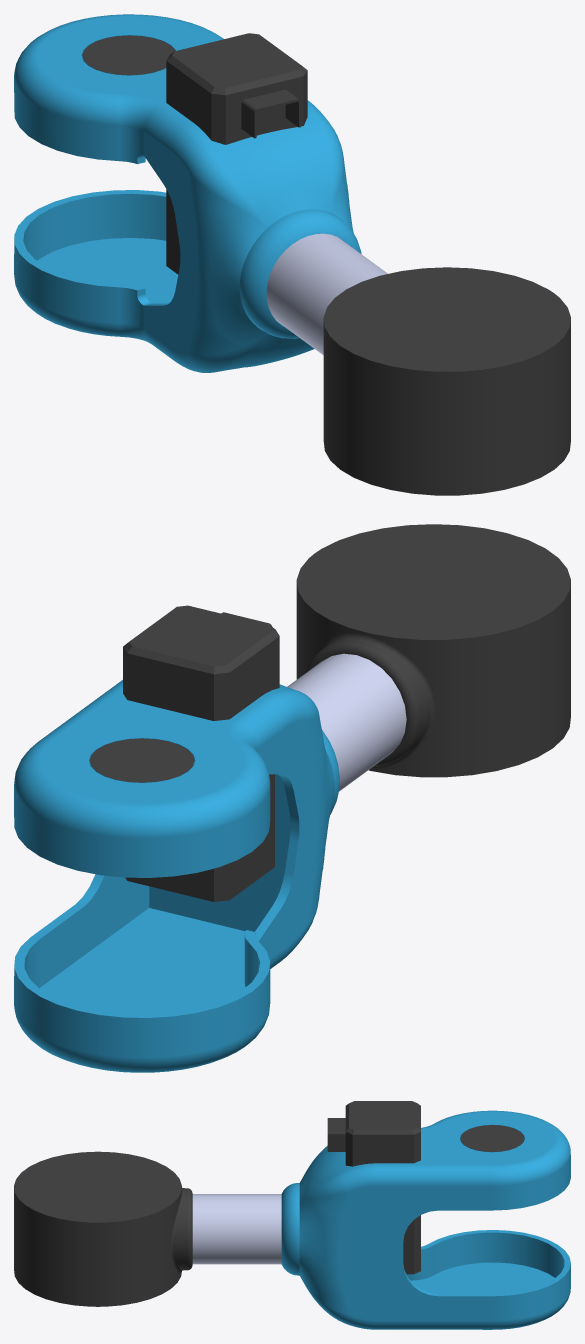
The model's file is arm_link.dae.
The picture shows the model from 3 angles, top to bottom: view 1: azimuth 30°, elevation 25°; view 2: azimuth 150°, elevation 25°; view 3: azimuth 270°, elevation 25°; orthographic projection. The views are drawn at different scales.
Parts seen in each view (by area): view 1: _3DGeom-127, _3DGeom-128, _3DGeom-129; view 2: _3DGeom-127, _3DGeom-128, _3DGeom-129; view 3: _3DGeom-127, _3DGeom-128, _3DGeom-129.
Part boxes in pixels (x1,y1,x2,y2): _3DGeom-127: (14,14,361,372); _3DGeom-128: (82,33,570,495); _3DGeom-129: (266,233,387,354); _3DGeom-127: (14,680,339,1072); _3DGeom-128: (89,524,570,901); _3DGeom-129: (287,653,406,791); _3DGeom-127: (281,1110,570,1329); _3DGeom-128: (14,1101,524,1306); _3DGeom-129: (192,1194,281,1264).
Bounding box in the file's own units: 0.1031 × 0.312 × 0.1207.
